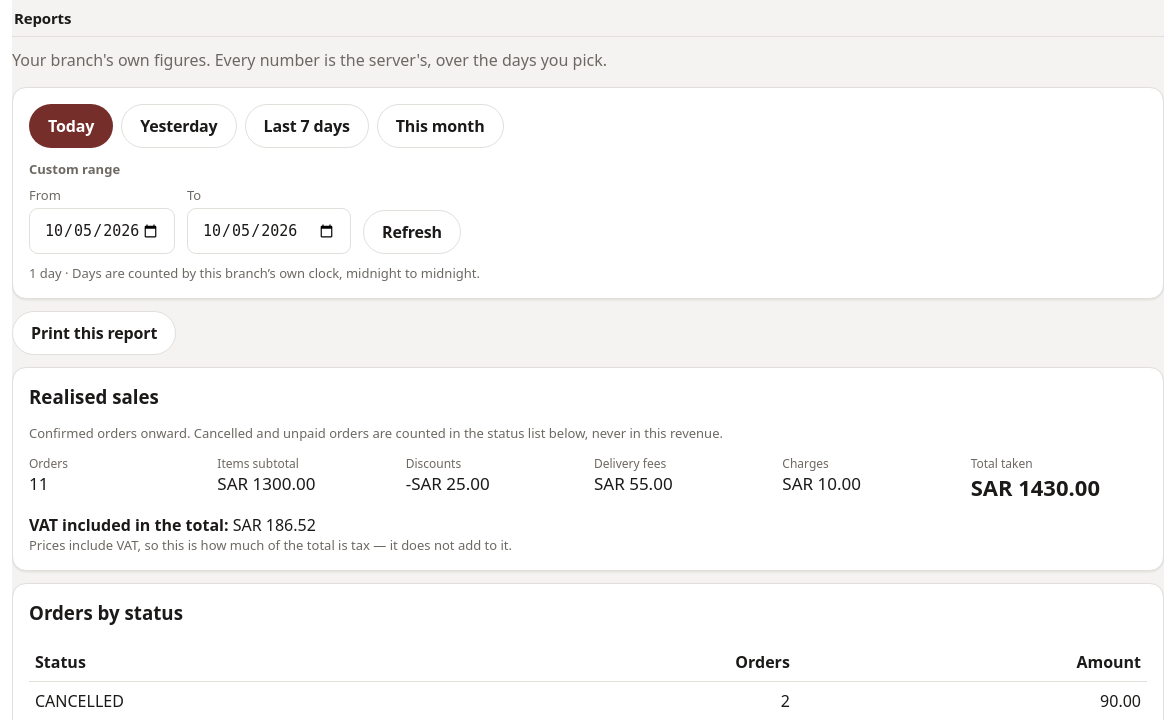
Scenario: ReportsScreen › says a print failed rather than looking like it worked
Click the button "Print this report".
click(94, 333)  # box [12,311,176,355]
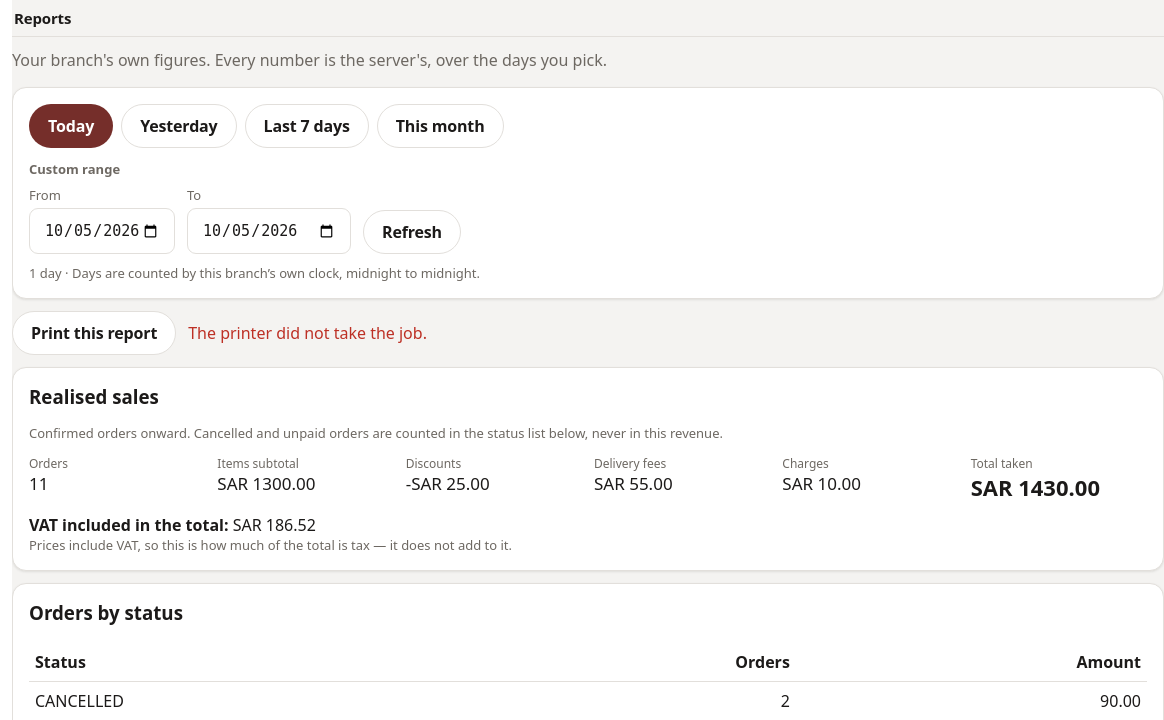
Expected: the text "The printer did not take the job." is shown, [188,322,427,344]
